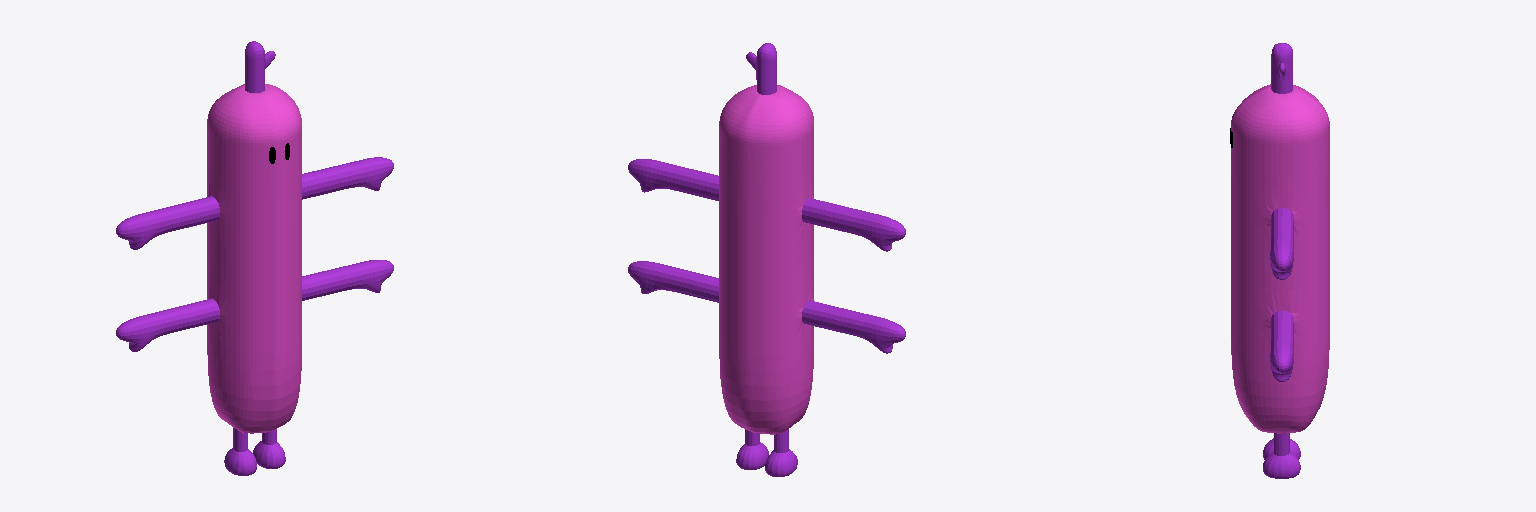
File: Personagem_2.obj
3 renders of one model, left to right at view 1: azimuth 30°, elevation 25°; view 2: azimuth 150°, elevation 25°; view 3: azimuth 270°, elevation 25°, orthographic.
Parts seen in each view (by area): view 1: Corpo; view 2: Corpo; view 3: Corpo.
Boxes of the visible parts, x1,y1,x2,y2 form: Corpo: [116, 41, 393, 475]; Corpo: [628, 43, 905, 476]; Corpo: [1230, 43, 1329, 478].
Bounding box in the file's own units: 3.99 × 5.86 × 1.24.